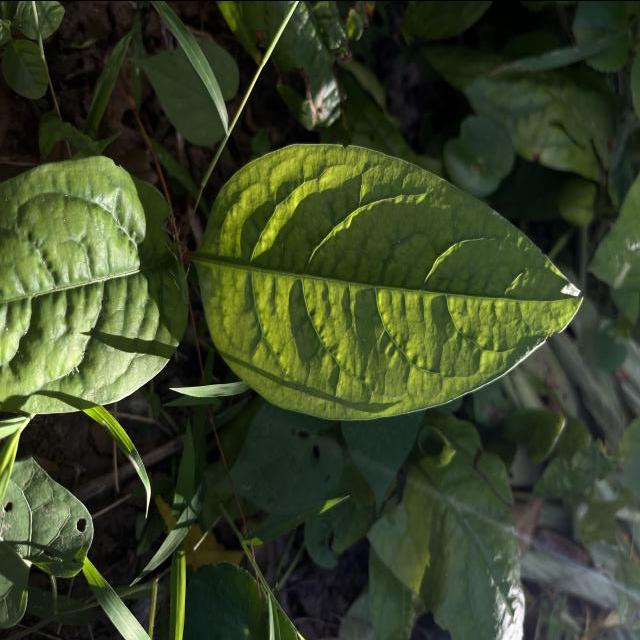Plumbago indica: (189, 130, 592, 426)
